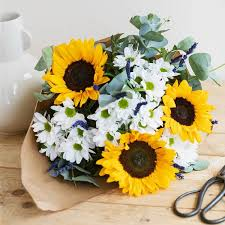girasol: (39, 38, 108, 102), (101, 136, 173, 196), (159, 83, 213, 137)
